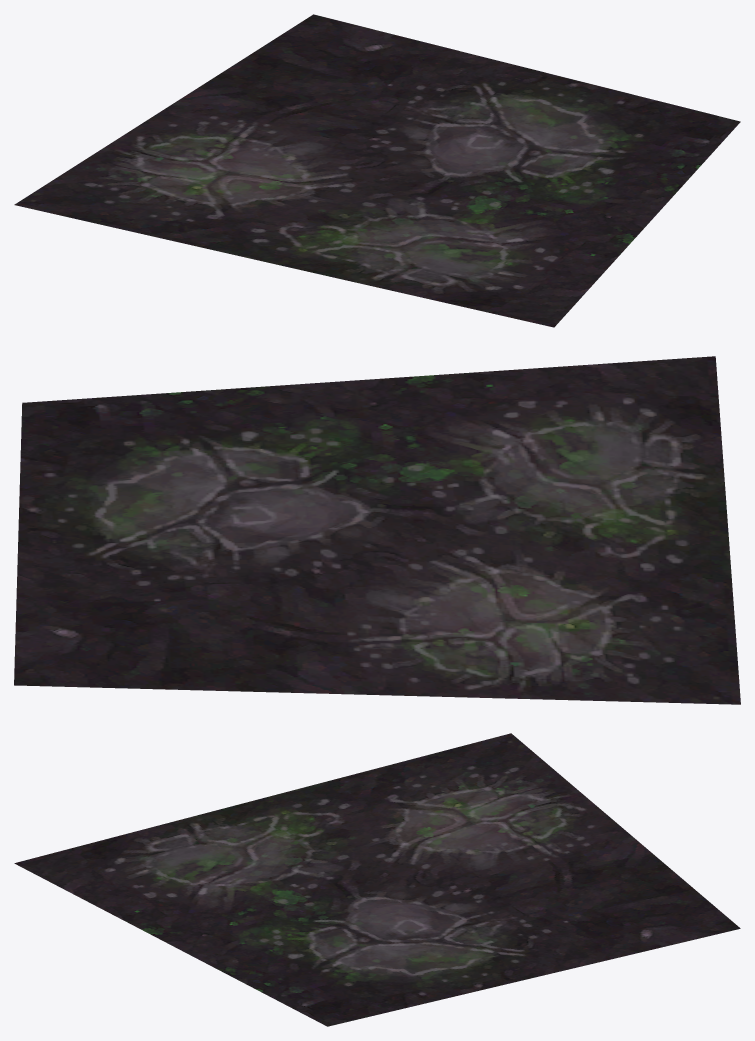
The model's file is cave_floor_mushrooms_07.fbx.
3 views of the same model, one above another, from view 1: azimuth 30°, elevation 25°; view 2: azimuth 150°, elevation 25°; view 3: azimuth 270°, elevation 25° (orthographic). The views are drawn at different scales.
Parts seen in each view (by area): view 1: cave_tileset/Floormushrooms_01_mat; view 2: cave_tileset/Floormushrooms_01_mat; view 3: cave_tileset/Floormushrooms_01_mat.
Part boxes in pixels (x1=…): cave_tileset/Floormushrooms_01_mat: x1=14, y1=14, x2=740, y2=327; cave_tileset/Floormushrooms_01_mat: x1=14, y1=356, x2=740, y2=704; cave_tileset/Floormushrooms_01_mat: x1=14, y1=733, x2=740, y2=1026.
Size of the model in its own units: 3.69 by 0 by 3.87.
